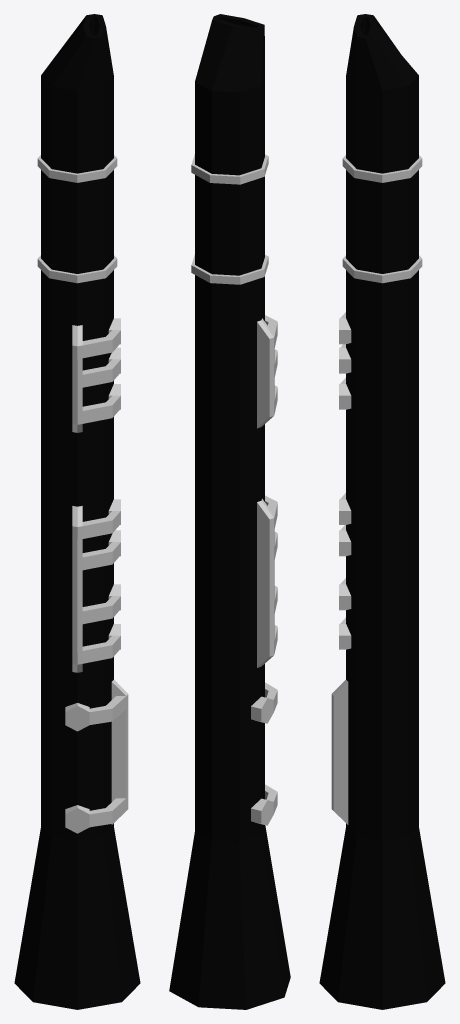
The model's file is Clarinet.fbx.
3 renders of one model, left to right at view 1: azimuth 90°, elevation 25°; view 2: azimuth 150°, elevation 25°; view 3: azimuth 270°, elevation 25°, orthographic.
Visible parts, largest first — view 1: Cylinder; view 2: Cylinder; view 3: Cylinder.
Boxes of the visible parts, x1,y1,x2,y2 form: Cylinder: [14, 14, 140, 1009]; Cylinder: [169, 14, 290, 1009]; Cylinder: [319, 14, 445, 1009].
Bounding box in the file's own units: 8 × 67 × 8.
